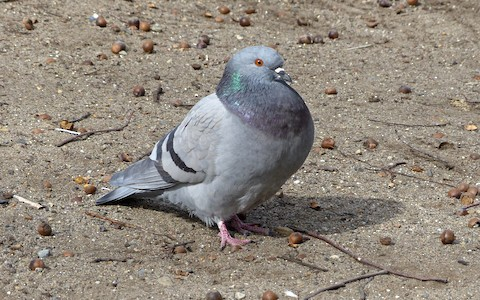pigeon: (86, 47, 316, 251)
